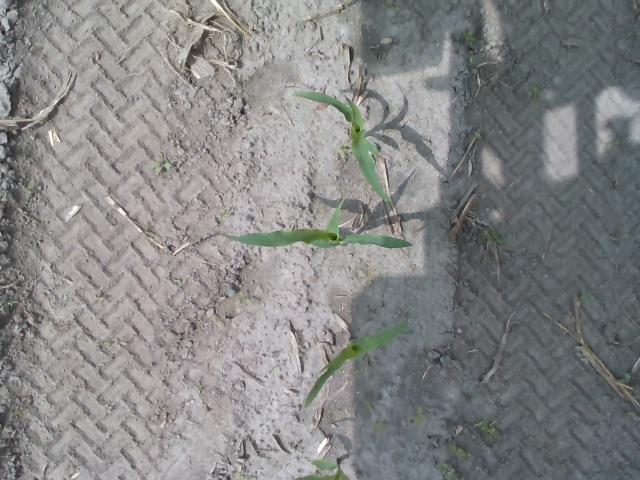Maize: (290, 87, 394, 202), (208, 198, 414, 250), (302, 314, 410, 408), (294, 456, 352, 480)
Weeds: (434, 462, 461, 480), (450, 443, 471, 461), (474, 419, 497, 434), (484, 227, 504, 244), (412, 404, 428, 422), (608, 230, 631, 241), (151, 160, 171, 172), (526, 86, 544, 99), (462, 30, 474, 41), (338, 144, 350, 154), (219, 207, 231, 217), (235, 474, 246, 480)
